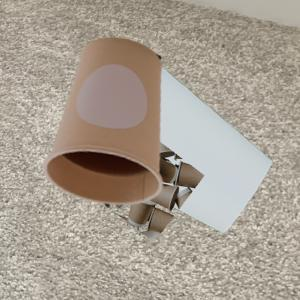cup: (47, 39, 164, 205)
